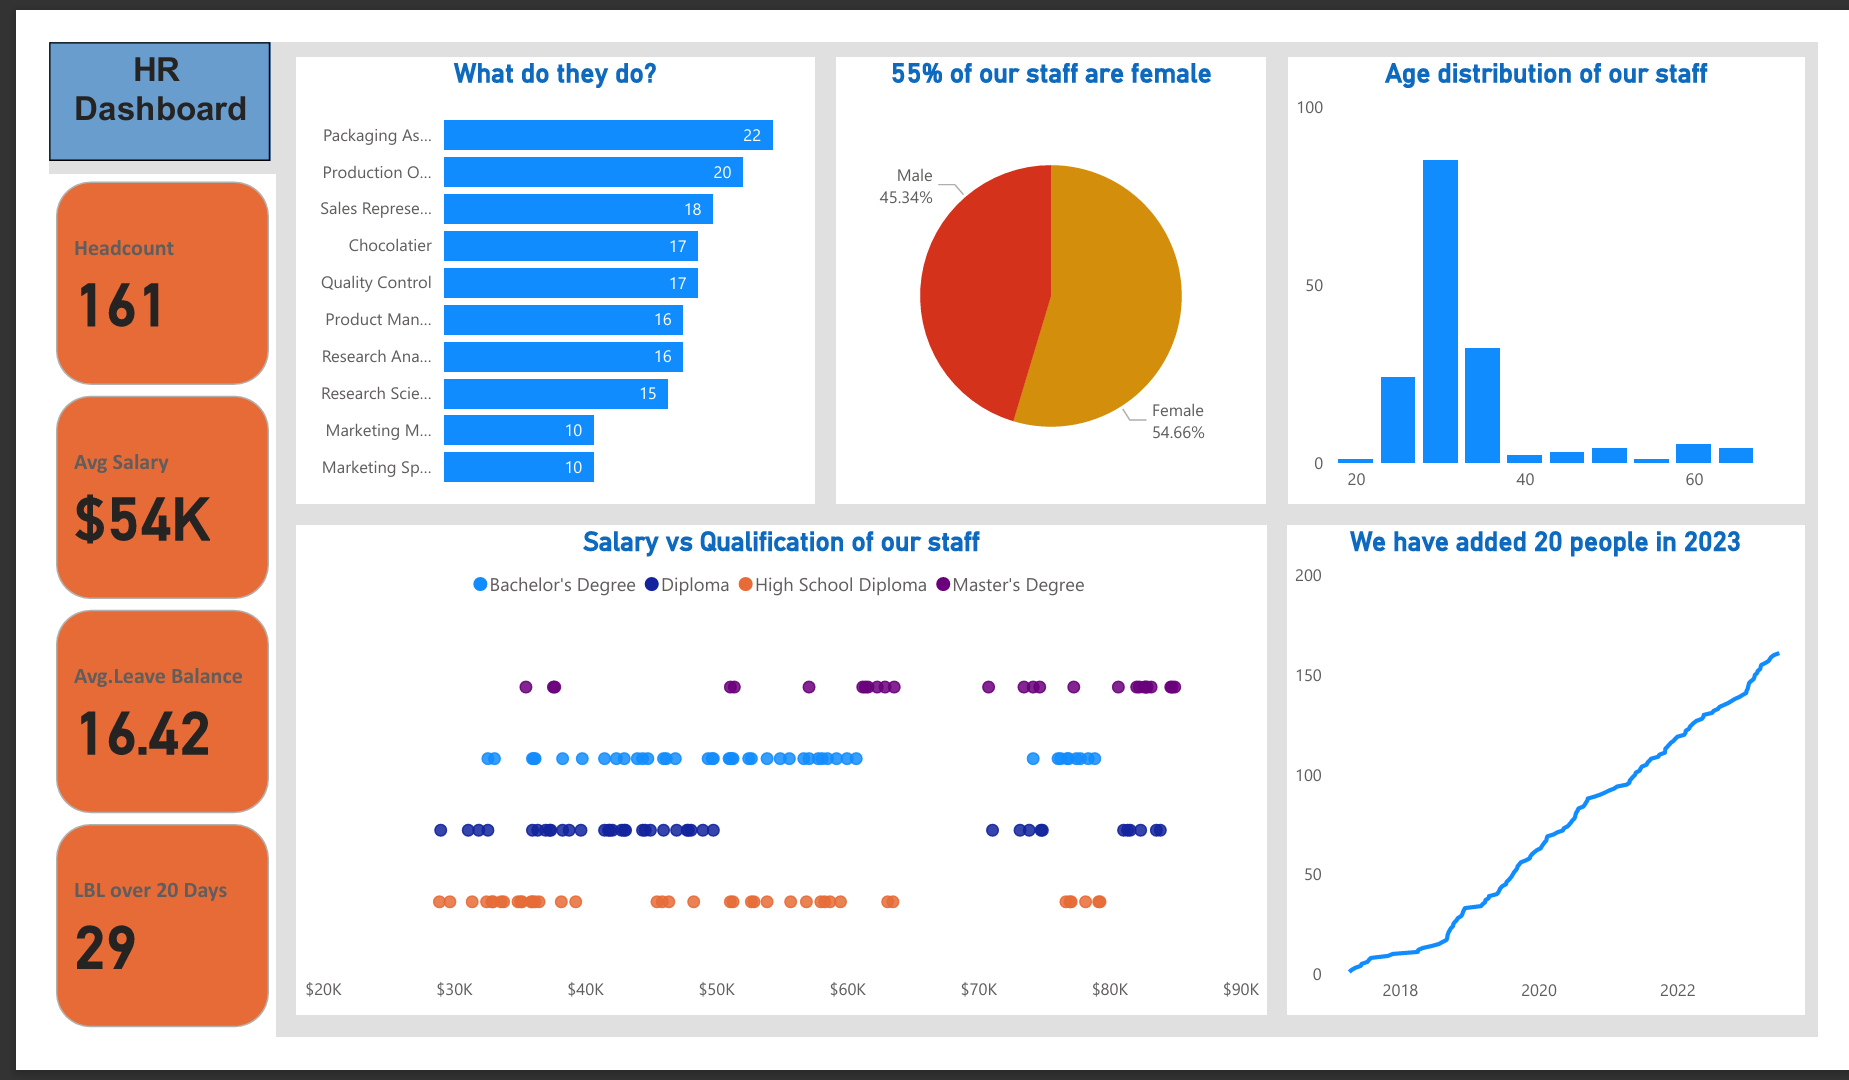

The dashboard page shown, as its layout file describes it:
{"tool":"powerbi","page":{"name":"HR Dashboard","canvas":[1280,720],"ordinal":0},"visuals":[{"type":"cardVisual","fields":{"Data":["Staff.Headcount","Staff.Avg Salary","Staff.Avg.Leave Balance","Staff.LBL over 20 Days"]},"box":[0,95.7,164.3,624.3],"z":0},{"type":"clusteredBarChart","title":"What do they do?","fields":{"Y":["data.Headcount"],"Category":["data.Job Title"]},"box":[178.6,11.4,375.7,322.9],"z":1000},{"type":"pieChart","title":"55% of our staff are female","fields":{"Y":["Staff.Headcount"],"Category":["Staff.Gender"]},"box":[570,11.4,310,322.9],"z":2000},{"type":"columnChart","title":"Age distribution of our staff","fields":{"Category":["Staff.Age (bins)"],"Y":["Staff.Headcount"]},"box":[897.1,11.4,372.9,322.9],"z":3000},{"type":"scatterChart","title":"Salary vs Qualification of our staff","fields":{"X":["Staff.Salary"],"Y":["Que.Qualification ID"],"Series":["Que.Qualification"]},"box":[178.6,350,702.9,354.3],"z":4000},{"type":"lineChart","title":"We have added 20 people in 2023","fields":{"Y":["Staff.Cumulative Headcount"],"Category":["Staff.Date of Join"]},"box":[895.7,350,374.3,354.3],"z":5000},{"type":"textbox","box":[0,0,160,86.2],"z":6000}]}

Visuals, with their boxes in screenshot pixels (x1, y1, x2, y2):
cardVisual - Staff.Headcount x Staff.Avg Salary: <bbox>10, 199, 244, 1079</bbox>
"What do they do?" clusteredBarChart: <bbox>264, 79, 799, 539</bbox>
"55% of our staff are female" pieChart: <bbox>822, 79, 1263, 539</bbox>
"Age distribution of our staff" columnChart: <bbox>1288, 79, 1819, 539</bbox>
"Salary vs Qualification of our staff" scatterChart: <bbox>264, 561, 1265, 1066</bbox>
"We have added 20 people in 2023" lineChart: <bbox>1286, 561, 1819, 1066</bbox>
textbox: <bbox>10, 63, 238, 185</bbox>
